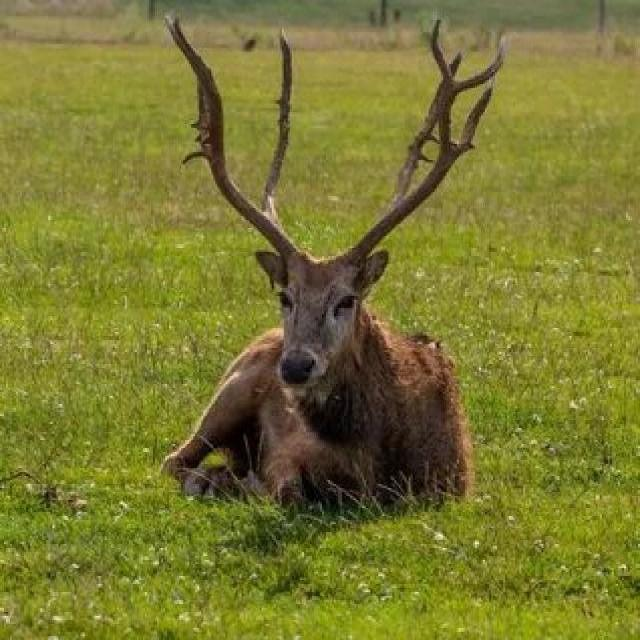deer: (107, 1, 516, 538)
